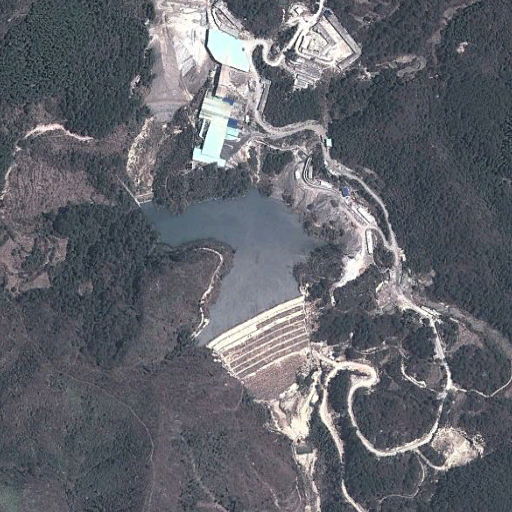tp: (120, 181, 343, 407)
